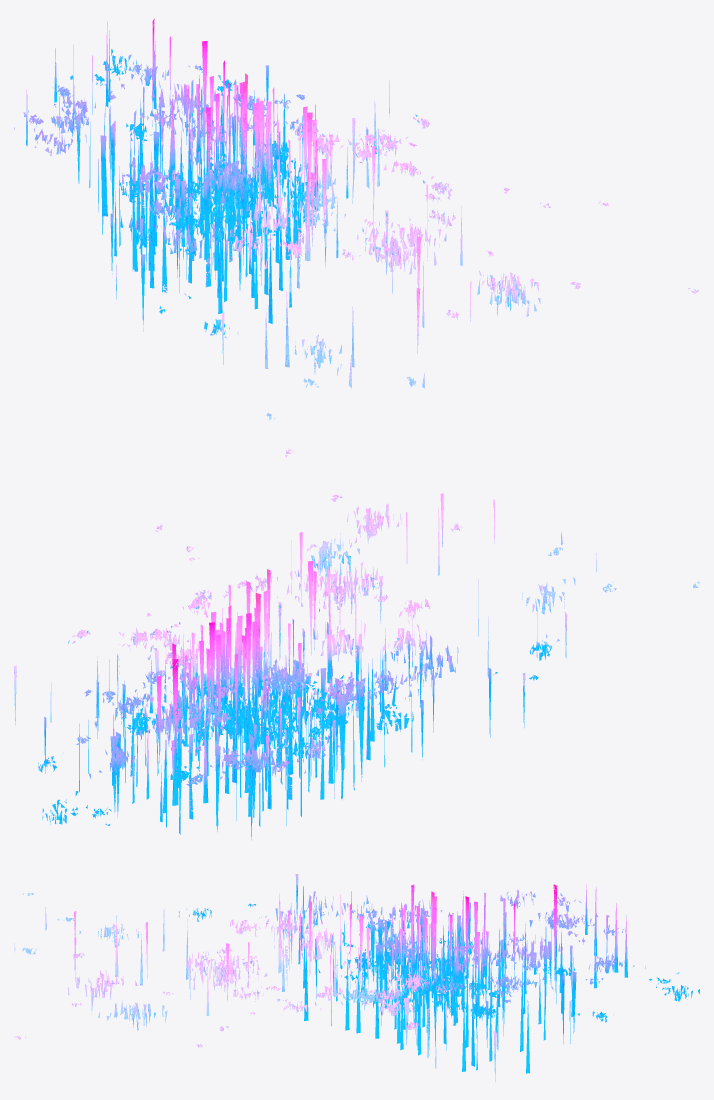
File: load-city.glb
The picture shows the model from 3 angles, top to bottom: view 1: azimuth 30°, elevation 25°; view 2: azimuth 150°, elevation 25°; view 3: azimuth 270°, elevation 25°; orthographic projection. The views are drawn at different scales.
Parts seen in each view (by area): view 1: LP; view 2: LP; view 3: LP.
Boxes of the visible parts, box(x1,y1,x2,y2) form: LP: box(14, 18, 698, 420); LP: box(14, 449, 699, 840); LP: box(14, 874, 699, 1081).
Bounding box in the file's own units: 562 × 241 × 918.
1 material, 1 textured.
